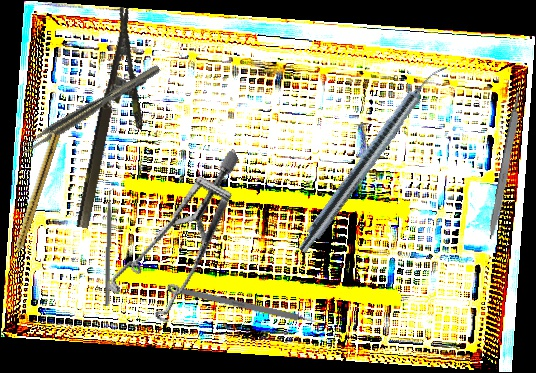Handpiece: (294, 56, 450, 259), (7, 132, 61, 265)
Hook Surgical: (179, 287, 327, 328)
Needle Holder: (73, 6, 166, 236)
Scalpel Handle: (486, 91, 526, 241)
Spatula Surgical: (104, 187, 117, 307)
Speculum: (78, 149, 288, 338)
Tissue Forceps: (17, 63, 164, 157)
